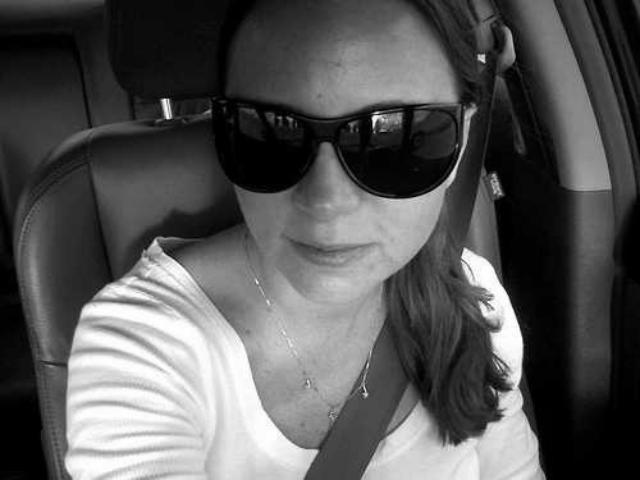Seatbelt: (298, 0, 512, 480)
